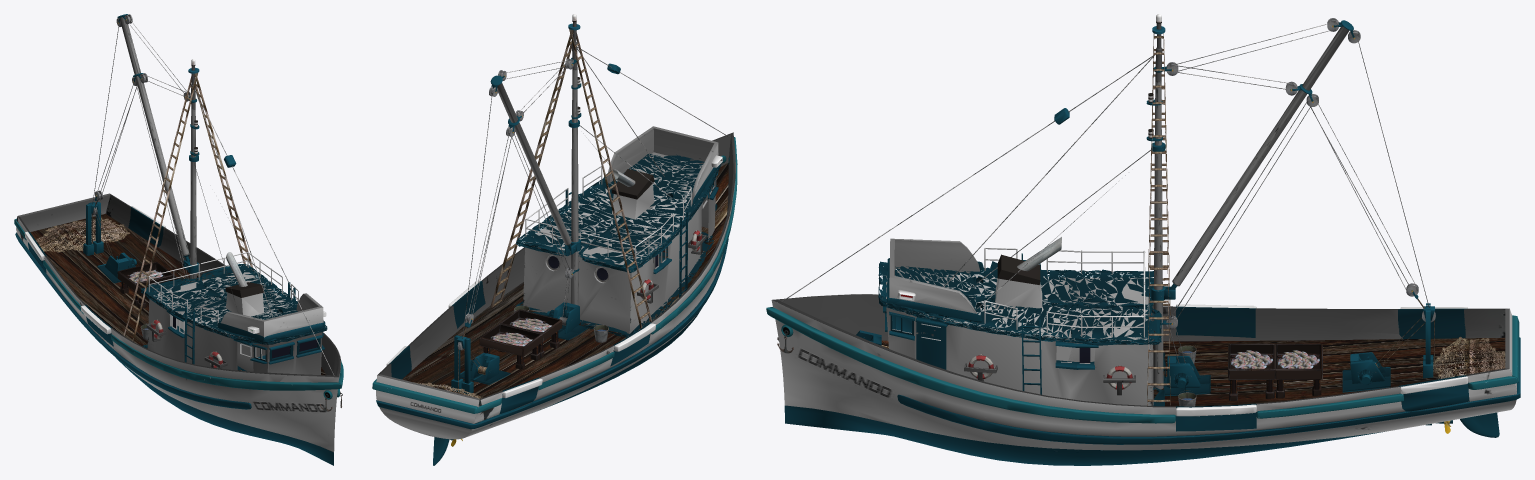
File: pacific-seiner.glb
3 views of the same model, side by side, from view 1: azimuth 30°, elevation 25°; view 2: azimuth 150°, elevation 25°; view 3: azimuth 270°, elevation 25° (orthographic). The views are drawn at different scales.
Parts seen in each view (by area): view 1: Object_2, Object_40, Object_39, Object_11, Object_42, Object_22, Object_55, Object_41, Object_18, Object_54, Object_17, Object_21 (+1 smaller); view 2: Object_2, Object_40, Object_11, Object_42, Object_39, Object_22, Object_55, Object_41, Object_18, Object_54, Object_17, Object_44 (+1 smaller); view 3: Object_2, Object_10, Object_40, Object_42, Object_11, Object_41, Object_55, Object_22, Object_18, Object_54, Object_44, Object_21 (+1 smaller).
Part boxes in pixels (box(x1,y1,x2,y2)): Object_2: box(15, 14, 333, 465); Object_40: box(16, 193, 323, 374); Object_39: box(16, 216, 338, 451); Object_11: box(17, 214, 326, 403); Object_42: box(17, 17, 340, 451); Object_22: box(36, 73, 255, 341); Object_55: box(24, 206, 326, 360); Object_41: box(14, 218, 343, 399); Object_18: box(92, 21, 334, 375); Object_54: box(117, 262, 181, 308); Object_17: box(191, 65, 263, 297); Object_21: box(92, 14, 190, 283); Object_2: box(376, 58, 728, 465); Object_40: box(377, 126, 718, 400); Object_11: box(402, 162, 729, 423); Object_42: box(378, 22, 735, 408); Object_39: box(376, 162, 735, 439); Object_22: box(414, 29, 651, 398); Object_55: box(386, 155, 722, 398); Object_41: box(372, 137, 737, 413); Object_18: box(462, 47, 730, 338); Object_54: box(479, 309, 562, 369); Object_17: box(572, 20, 654, 199); Object_44: box(490, 317, 552, 346); Object_2: box(784, 20, 1520, 465); Object_10: box(771, 300, 1516, 450); Object_40: box(886, 238, 1512, 405); Object_42: box(772, 23, 1508, 450); Object_11: box(881, 337, 1505, 406); Object_41: box(766, 307, 1519, 423); Object_55: box(892, 247, 1467, 416); Object_22: box(1147, 33, 1505, 405); Object_18: box(781, 24, 1429, 363); Object_54: box(1228, 343, 1322, 400); Object_44: box(1231, 350, 1319, 368); Object_21: box(1166, 18, 1435, 329).
Size of the model in its own units: 5.63 by 10.73 by 17.
31 materials, 28 textured.
